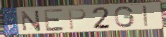2: (91, 6, 112, 30)
E: (43, 8, 67, 33)
G: (114, 6, 135, 29)
I: (142, 5, 151, 28)
N: (20, 9, 43, 32)
P: (67, 7, 88, 31)
